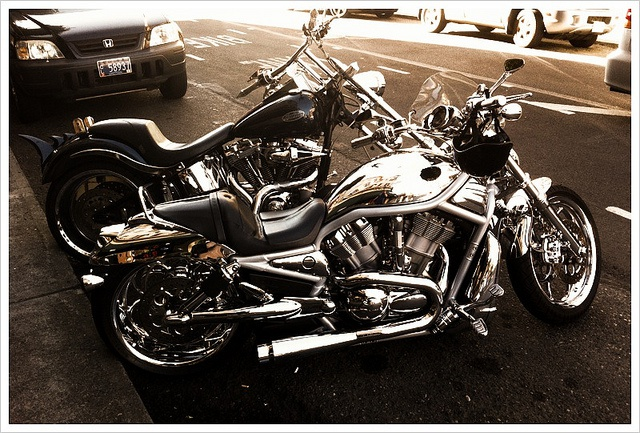non-vehicle: (81, 58, 602, 377), (22, 9, 407, 257)
